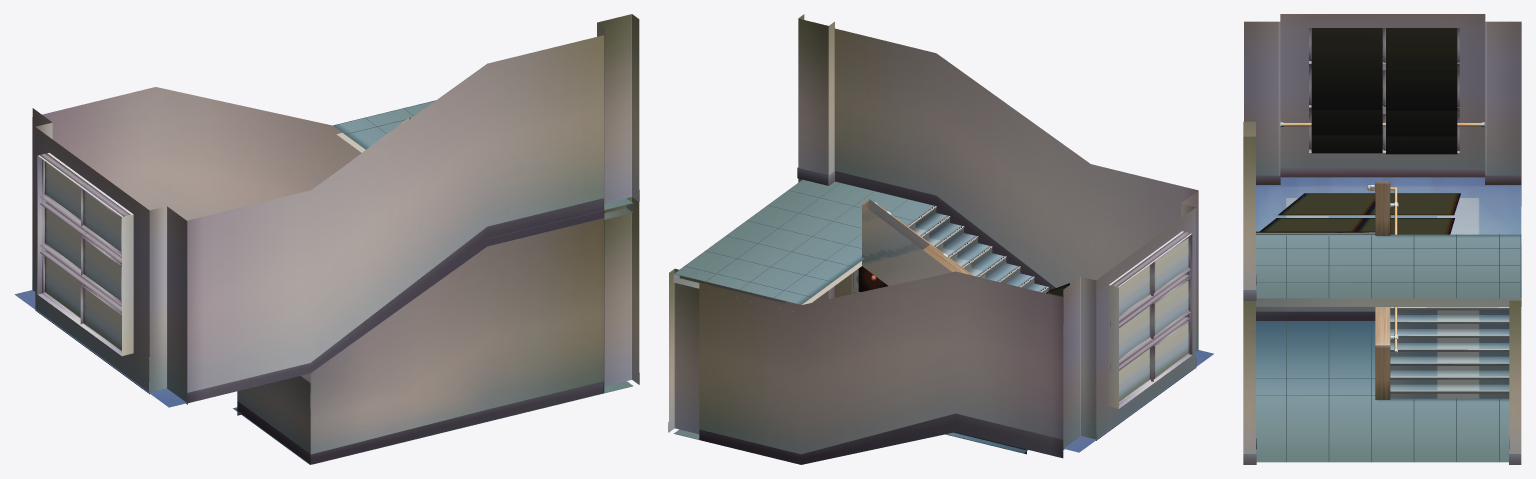
File: JpsStairs_lowfloorA.FBX
3 renders of one model, left to right at view 1: azimuth 30°, elevation 25°; view 2: azimuth 150°, elevation 25°; view 3: azimuth 270°, elevation 25°, orthographic. The views are drawn at different scales.
Parts seen in each view (by area): view 1: Sta_LowF_A_wallB, Sta_LowF_A_window, Sta_LowF_A_wallF, Sta_LowF_A_stairs; view 2: Sta_LowF_A_wallF, Sta_LowF_A_wallB, Sta_LowF_A_stairs, Sta_LowF_A_window; view 3: Sta_LowF_A_stairs, Sta_LowF_A_window, Sta_LowF_A_beam_add, Sta_LowF_A_spotF, Sta_LowF_A_wallB, Sta_LowF_A_baseboards, Sta_LowF_A_wallF.
Part boxes in pixels (x1,y1,x2,y2): Sta_LowF_A_wallB: (187, 14, 639, 464); Sta_LowF_A_window: (32, 108, 187, 403); Sta_LowF_A_wallF: (32, 87, 361, 289); Sta_LowF_A_stairs: (14, 100, 633, 464); Sta_LowF_A_wallF: (668, 268, 1063, 464); Sta_LowF_A_wallB: (797, 14, 1198, 302); Sta_LowF_A_stairs: (673, 179, 1213, 454); Sta_LowF_A_window: (1063, 191, 1198, 448); Sta_LowF_A_stairs: (1256, 177, 1521, 462); Sta_LowF_A_window: (1244, 14, 1521, 175); Sta_LowF_A_beam_add: (1311, 28, 1457, 154); Sta_LowF_A_spotF: (1256, 193, 1460, 234); Sta_LowF_A_wallB: (1243, 121, 1256, 464); Sta_LowF_A_baseboards: (1256, 168, 1521, 184); Sta_LowF_A_wallF: (1509, 149, 1521, 464).
Bounding box in the file's own units: 826 × 607 × 461.
